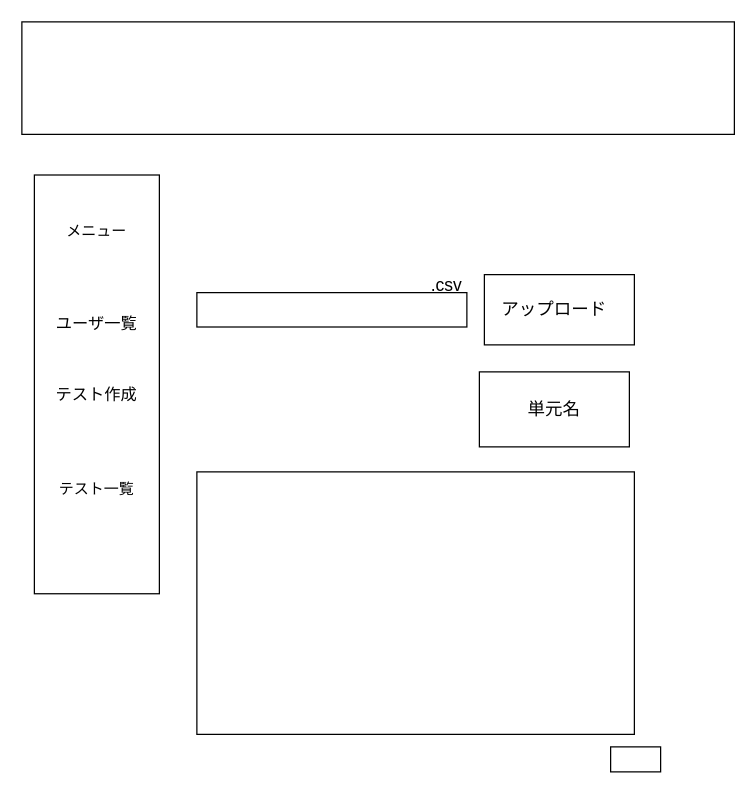
This 756x794 diagram has some shape labels left out. The shapes that lost their labels are listed below. From the top down, each one's centre as x and y in pixels, then its label:
point (377, 77): ヘッダ
point (635, 759): 完成
